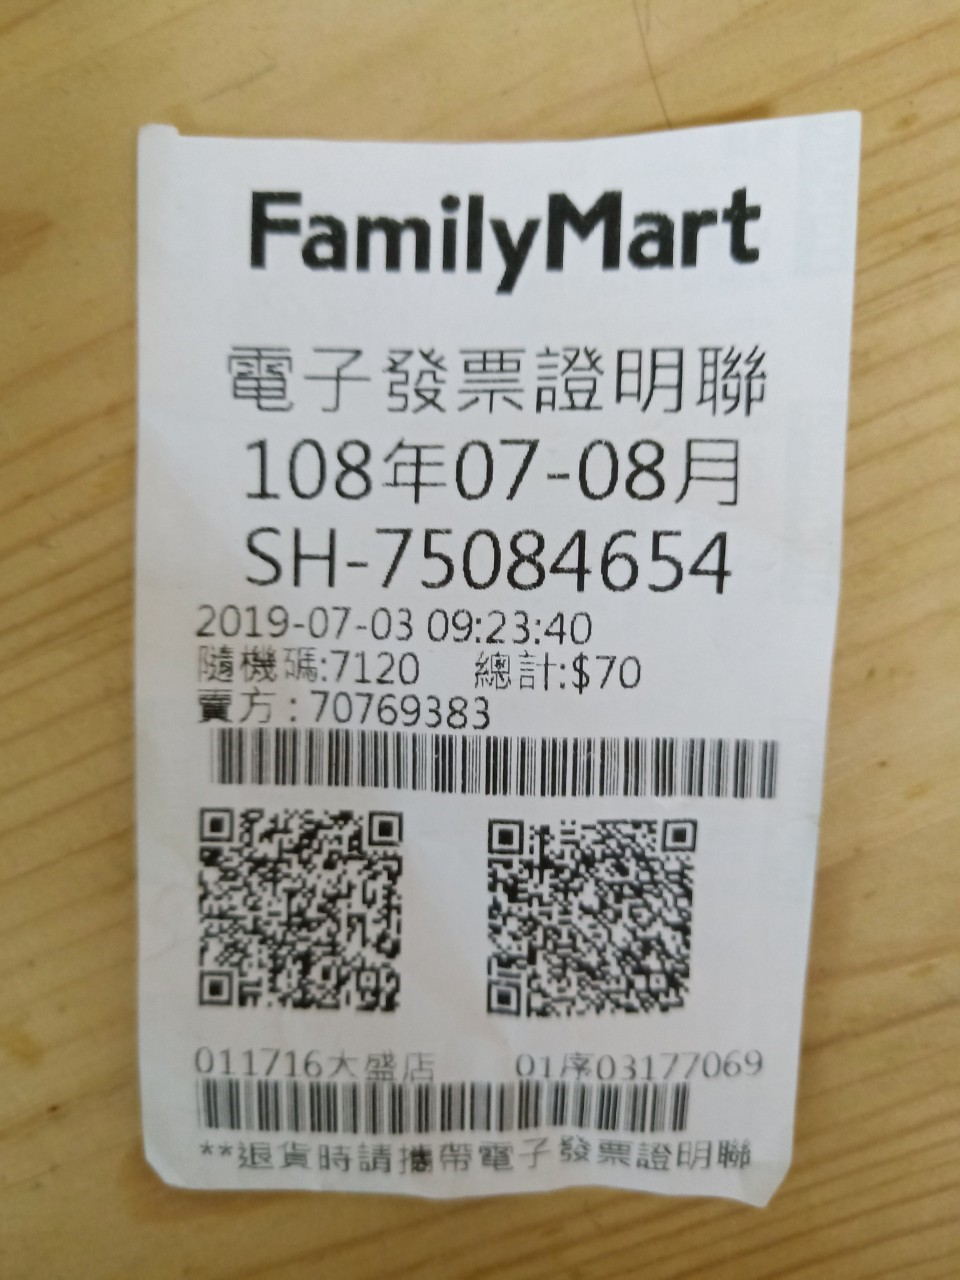Date_New: (245, 432, 743, 512)
Number_New: (371, 523, 738, 603)
